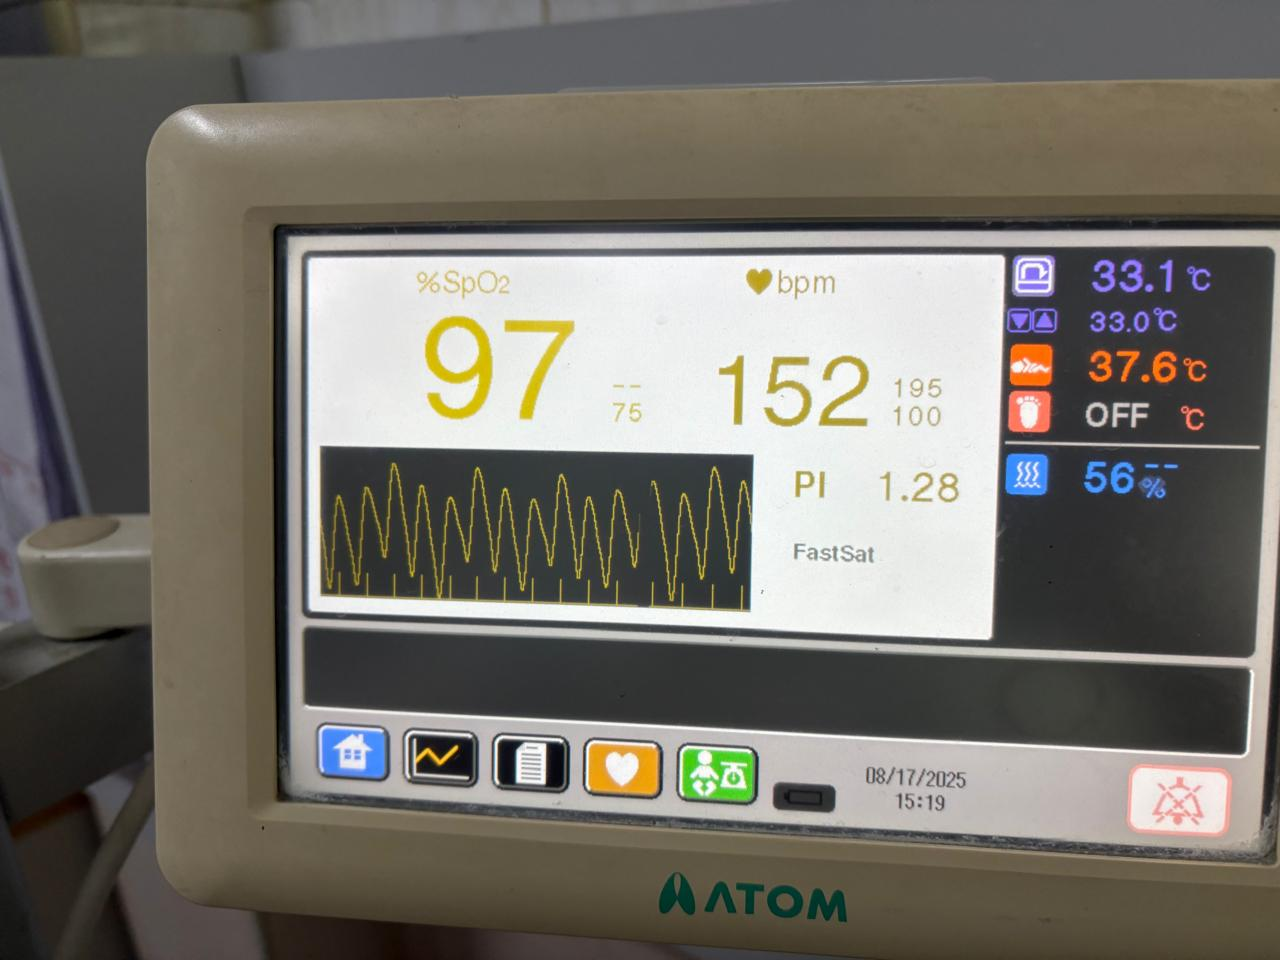heart_rate_value: (697, 344, 878, 445)
humidity_value: (1069, 450, 1140, 506)
skin_temp_value: (1071, 336, 1181, 394)
spo2_value: (407, 316, 588, 427)
